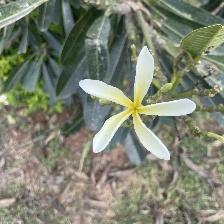champaka: (80, 44, 201, 167)
